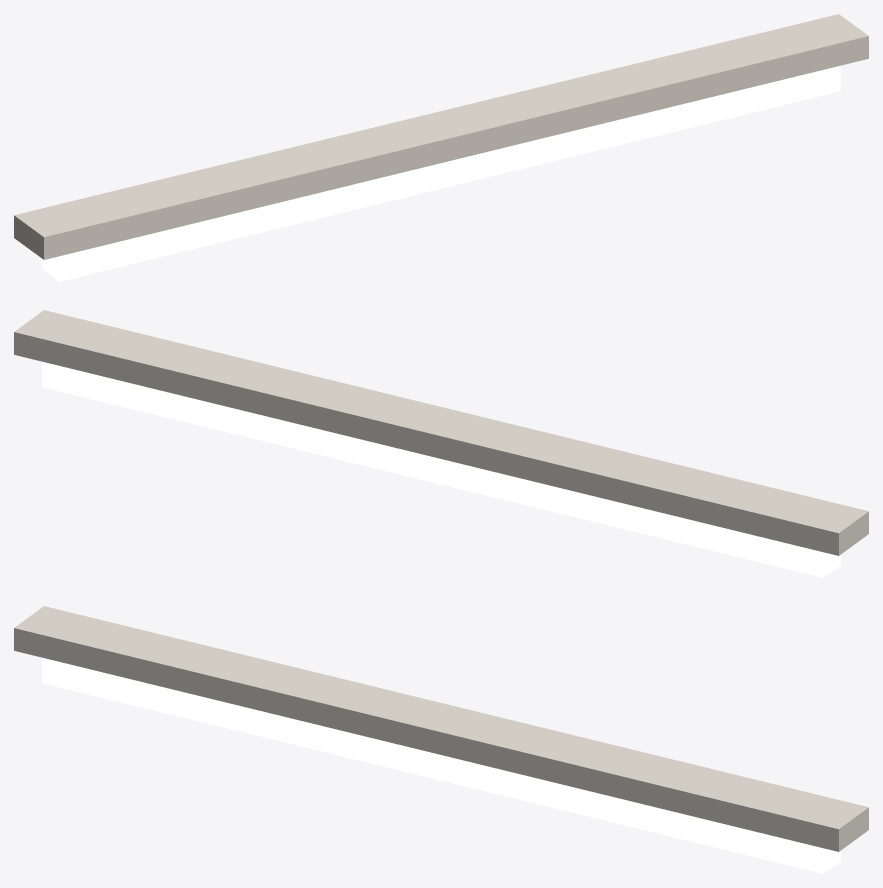
3 views of the same model, one above another, from view 1: azimuth 30°, elevation 25°; view 2: azimuth 150°, elevation 25°; view 3: azimuth 330°, elevation 25° (orthographic).
Visible parts, largest first — view 1: tube_1, tube_0; view 2: tube_1, tube_0; view 3: tube_1, tube_0.
Part boxes in pixels (x1,y1,x2,y2): tube_1: [14, 14, 868, 259]; tube_0: [42, 65, 840, 281]; tube_1: [14, 310, 868, 555]; tube_0: [42, 361, 840, 577]; tube_1: [14, 606, 868, 851]; tube_0: [42, 657, 840, 873].
Size of the model in its own units: 1.9 by 0.12 by 0.12.
Materials: 2 (2 with a texture image).
